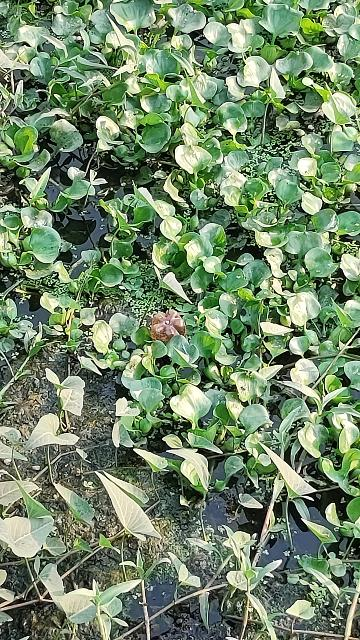bottle: (137, 300, 207, 360)
